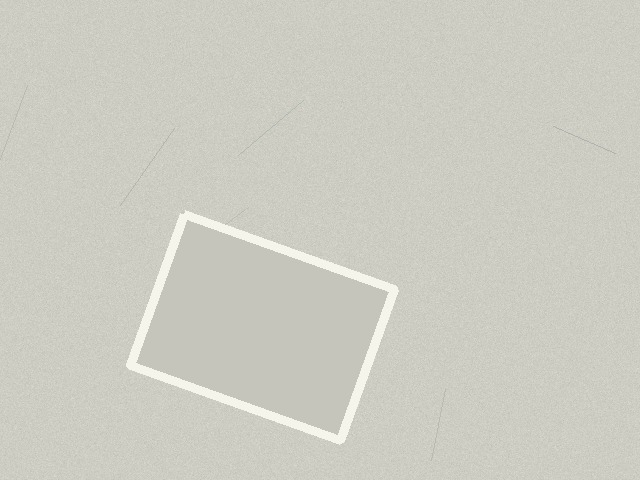parking_area: (130, 214, 394, 440)
